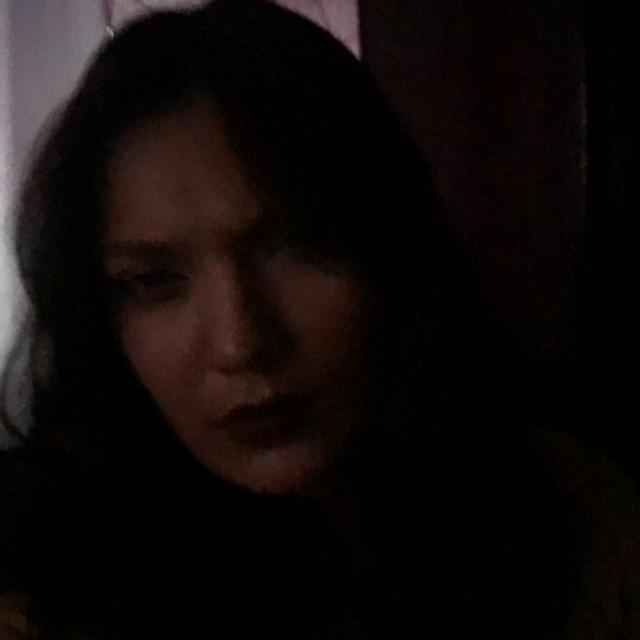Angry: (59, 39, 538, 578)
